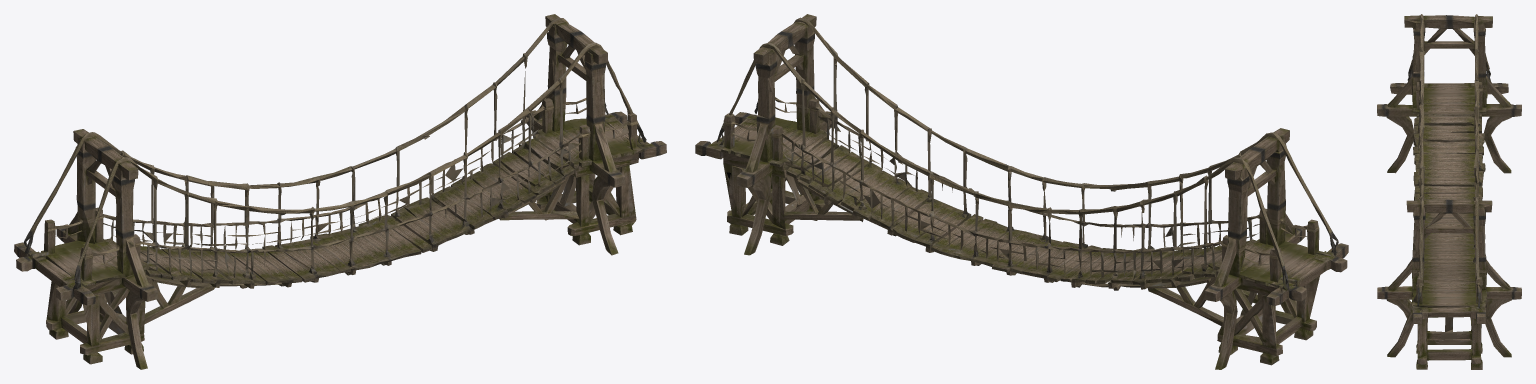
The model's file is PassarelaSuspensaEldoria.glb.
The picture shows the model from 3 angles, left to right: view 1: azimuth 30°, elevation 25°; view 2: azimuth 150°, elevation 25°; view 3: azimuth 270°, elevation 25°; orthographic projection. The views are drawn at different scales.
Visible parts, largest first — view 1: output_unwrapped; view 2: output_unwrapped; view 3: output_unwrapped.
Part boxes in pixels (x1,y1,x2,y2): output_unwrapped: (14, 14, 666, 369); output_unwrapped: (695, 14, 1348, 369); output_unwrapped: (1377, 14, 1521, 369).
Bounding box in the file's own units: 1.9 × 0.588 × 0.4903.
Materials: 1 (1 with a texture image).
